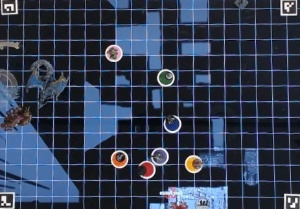blue: (159, 113, 186, 135)
green: (156, 68, 177, 88)
orange: (108, 149, 130, 170)
pink: (104, 42, 124, 64)
red: (136, 159, 156, 179)
violet: (151, 145, 171, 166)
yellow: (183, 151, 203, 175)
